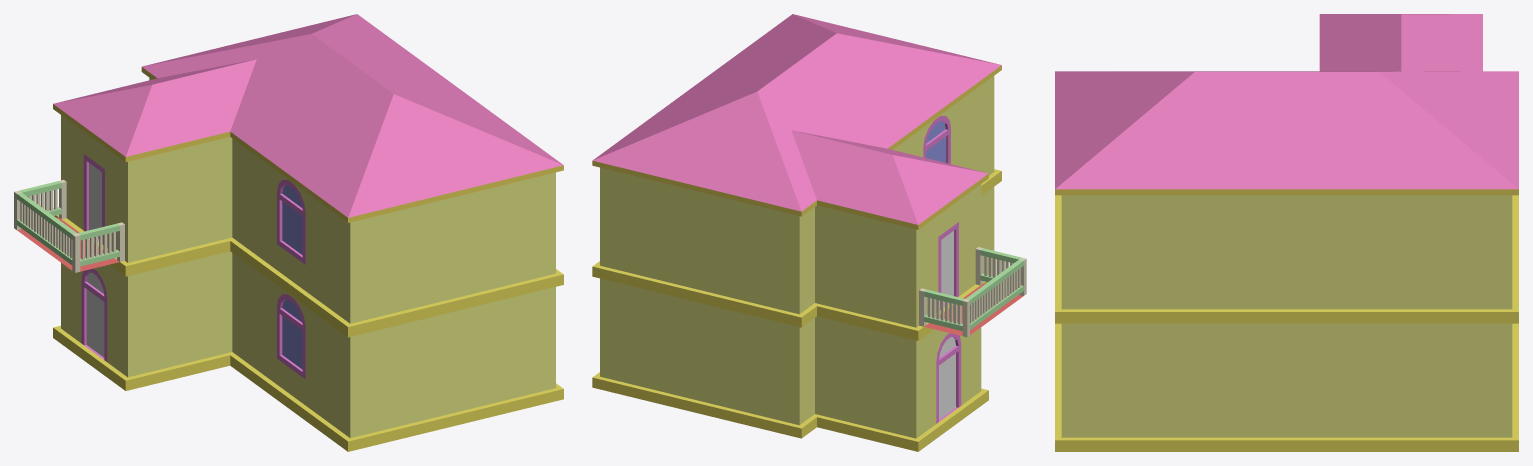
File: house1.fbx
3 renders of one model, left to right at view 1: azimuth 30°, elevation 25°; view 2: azimuth 150°, elevation 25°; view 3: azimuth 270°, elevation 25°, orthographic. The views are drawn at different scales.
Parts seen in each view (by area): view 1: building_001; view 2: building_001; view 3: building_001.
Boxes of the visible parts, <box> form: building_001: <box>14,14,563,451</box>; building_001: <box>592,14,1026,451</box>; building_001: <box>1055,14,1518,451</box>.
Size of the model in its own units: 734 by 550 by 720.
